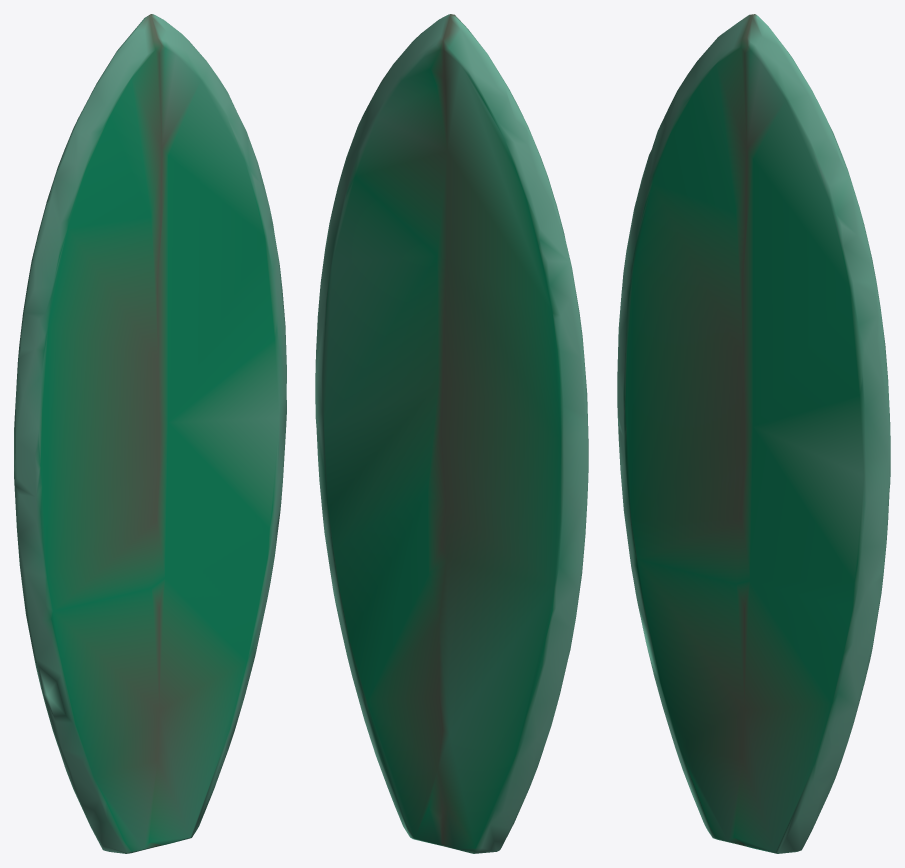
Rendered from gen3d-surfboard-lod1.glb.
The picture shows the model from 3 angles, left to right: view 1: azimuth 30°, elevation 25°; view 2: azimuth 150°, elevation 25°; view 3: azimuth 330°, elevation 25°; orthographic projection.
Parts seen in each view (by area): view 1: part_0; view 2: part_0; view 3: part_0.
Part boxes in pixels (bbox=[...]): part_0: bbox=[14, 14, 286, 853]; part_0: bbox=[315, 14, 588, 853]; part_0: bbox=[617, 14, 890, 853].
Size of the model in its own units: 0.3446 by 1 by 0.0412.
